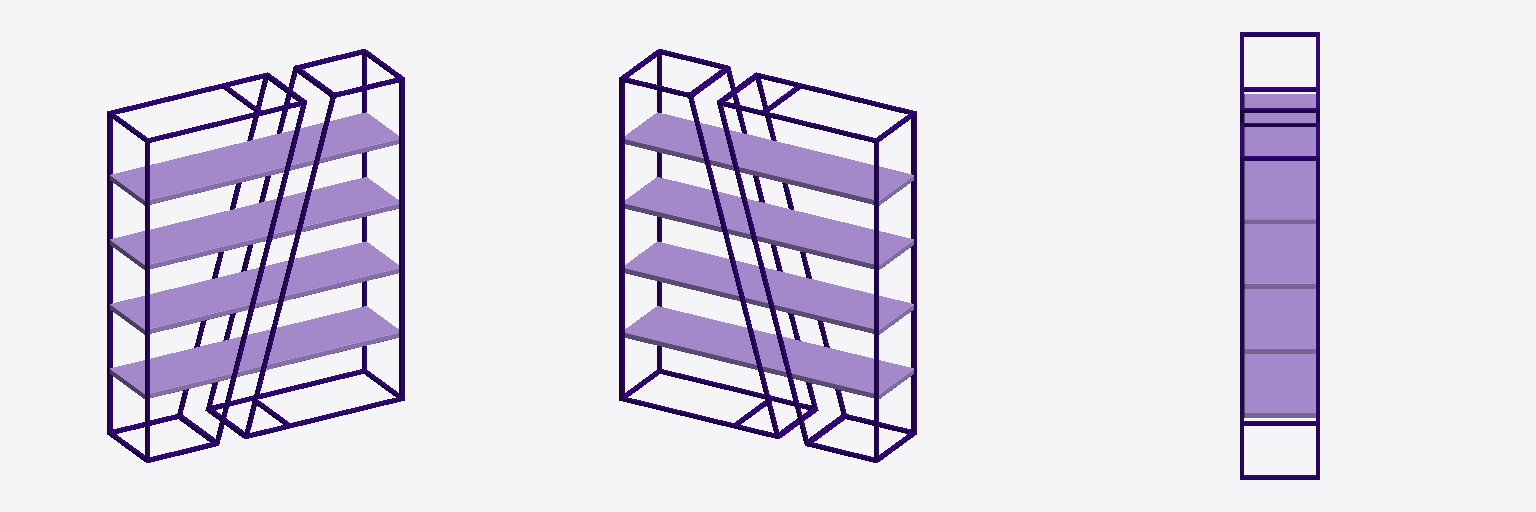
The model's file is Rack_Horizon__corona.obj.
3 renders of one model, left to right at view 1: azimuth 30°, elevation 25°; view 2: azimuth 150°, elevation 25°; view 3: azimuth 270°, elevation 25°, orthographic.
Parts seen in each view (by area): view 1: Rack_Horizon_002, Rack_Horizon_001; view 2: Rack_Horizon_002, Rack_Horizon_001; view 3: Rack_Horizon_002, Rack_Horizon_001.
Boxes of the visible parts, x1=… form: Rack_Horizon_002: x1=110, y1=112, x2=398, y2=398; Rack_Horizon_001: x1=107, y1=49, x2=404, y2=462; Rack_Horizon_002: x1=625, y1=112, x2=913, y2=398; Rack_Horizon_001: x1=619, y1=49, x2=916, y2=462; Rack_Horizon_002: x1=1244, y1=94, x2=1315, y2=417; Rack_Horizon_001: x1=1240, y1=32, x2=1319, y2=479.
Size of the model in its own units: 150 by 180 by 40.47.